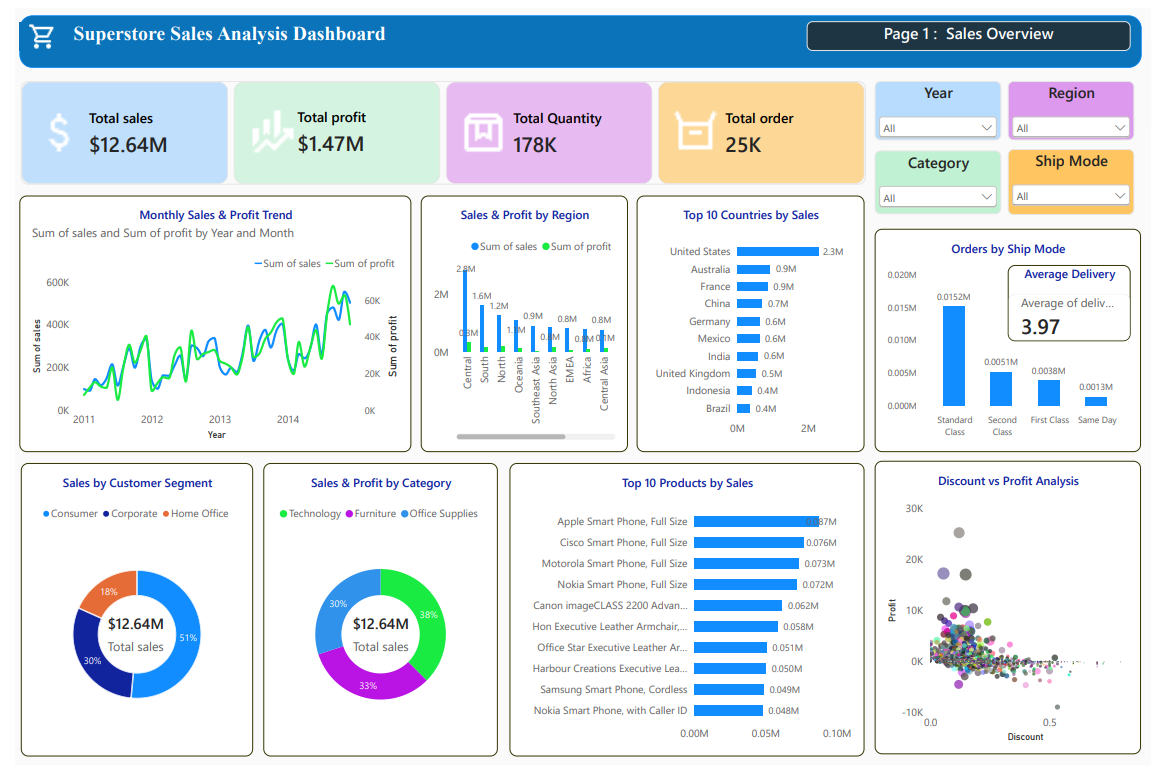

What the dashboard file says about the page in this screenshot:
{"tool":"powerbi","page":{"name":"Page 1","canvas":[1536,1024],"ordinal":0},"visuals":[{"type":"shape","box":[5.4,8.9,1517.9,71],"z":0},{"type":"textbox","box":[66.7,18.3,445,38.3],"z":1000},{"type":"image","box":[4.9,18.3,62.4,37.9],"z":2000},{"type":"cardVisual","fields":{"Data":["Superstore_Cleaned.Total sales","Superstore_Cleaned.Total profit","Superstore_Cleaned.Total Quantity","Superstore_Cleaned.Total order"]},"box":[6.9,97.8,1142.7,140.7],"z":3000},{"type":"lineChart","title":"Monthly Sales & Profit Trend","fields":{"Y":["Sum(Superstore_Cleaned.sales)"],"Y2":["Sum(Superstore_Cleaned.profit)"],"Category":["Superstore_Cleaned.order_date.Variation.Date Hierarchy.Year","Superstore_Cleaned.order_date.Variation.Date Hierarchy.Month"]},"box":[5,253.3,530,346.7],"z":4000},{"type":"lineClusteredColumnComboChart","title":"Sales & Profit by Region","fields":{"Y":["Sum(Superstore_Cleaned.sales)","Sum(Superstore_Cleaned.profit)"],"Category":["Superstore_Cleaned.region"]},"box":[548.3,253.3,280,346.7],"z":5000},{"type":"donutChart","title":"Sales & Profit by Category","fields":{"Category":["Superstore_Cleaned.category"],"Y":["Sum(Superstore_Cleaned.sales)"]},"box":[335,615,316.7,396.7],"z":6000},{"type":"barChart","title":"Top 10 Products by Sales","fields":{"Category":["Superstore_Cleaned.product_name"],"Y":["Sum(Superstore_Cleaned.sales)"]},"box":[668.3,615,480,396.7],"z":7000},{"type":"donutChart","title":"Sales by Customer Segment","fields":{"Y":["Sum(Superstore_Cleaned.sales)"],"Category":["Superstore_Cleaned.segment"]},"box":[6.7,615,314.8,396.5],"z":8000},{"type":"scatterChart","title":"Discount vs Profit Analysis","fields":{"X":["Avg(Superstore_Cleaned.discount)"],"Y":["Sum(Superstore_Cleaned.profit)"],"Size":["Sum(Superstore_Cleaned.sales)"],"Category":["Superstore_Cleaned.product_name"]},"box":[1161.7,612.2,360,396.5],"z":9000},{"type":"clusteredBarChart","title":"Top 10 Countries by Sales","fields":{"Category":["Superstore_Cleaned.country"],"Y":["Sum(Superstore_Cleaned.sales)"]},"box":[840,253.3,308.3,346.7],"z":10000},{"type":"clusteredColumnChart","title":"Orders by Ship Mode","fields":{"Category":["Superstore_Cleaned.ship_mode"],"Y":["Superstore_Cleaned.Total order"]},"box":[1161.7,298.3,360,301.7],"z":11000},{"type":"cardVisual","title":"Average Delivery","fields":{"Data":["Avg(Superstore_Cleaned.delivery_days)"]},"box":[1341.8,346.6,166.4,102.9],"z":12000},{"type":"slicer","title":"Year","fields":{"Values":["Superstore_Cleaned.year"]},"box":[1161.6,97.8,171.6,80.6],"z":13000},{"type":"slicer","title":"Category","fields":{"Values":["Superstore_Cleaned.category"]},"box":[1161.7,191.7,171,86.7],"z":14000},{"type":"slicer","title":"Ship Mode","fields":{"Values":["Superstore_Cleaned.ship_mode"]},"box":[1341.7,190,171,88.7],"z":15000},{"type":"slicer","title":"Region","fields":{"Values":["Superstore_Cleaned.region"]},"box":[1341.8,97.8,171.6,80.6],"z":16000},{"type":"card","fields":{"Values":["Superstore_Cleaned.Total sales"]},"box":[101.7,758.3,121.7,175],"z":17000},{"type":"card","fields":{"Values":["Superstore_Cleaned.Total sales"]},"box":[433.3,758.3,121.7,175],"z":18000},{"type":"textbox","box":[1070,16.7,438.3,40],"z":19000}]}

Visuals, with their boxes in screenshot pixels (x1, y1, x2, y2), scaled from the page's 1536x1024 canvas onto the 1160x765 screenshot:
shape: crop(4, 7, 1150, 60)
textbox: crop(50, 14, 386, 42)
image: crop(4, 14, 51, 42)
cardVisual - Superstore_Cleaned.Total sales x Superstore_Cleaned.Total profit: crop(5, 73, 868, 178)
"Monthly Sales & Profit Trend" lineChart: crop(4, 189, 404, 448)
"Sales & Profit by Region" lineClusteredColumnComboChart: crop(414, 189, 626, 448)
"Sales & Profit by Category" donutChart: crop(253, 459, 492, 756)
"Top 10 Products by Sales" barChart: crop(505, 459, 867, 756)
"Sales by Customer Segment" donutChart: crop(5, 459, 243, 756)
"Discount vs Profit Analysis" scatterChart: crop(877, 457, 1149, 754)
"Top 10 Countries by Sales" clusteredBarChart: crop(634, 189, 867, 448)
"Orders by Ship Mode" clusteredColumnChart: crop(877, 223, 1149, 448)
"Average Delivery" cardVisual: crop(1013, 259, 1139, 336)
"Year" slicer: crop(877, 73, 1007, 133)
"Category" slicer: crop(877, 143, 1006, 208)
"Ship Mode" slicer: crop(1013, 142, 1142, 208)
"Region" slicer: crop(1013, 73, 1143, 133)
card - Superstore_Cleaned.Total sales: crop(77, 567, 169, 697)
card - Superstore_Cleaned.Total sales: crop(327, 567, 419, 697)
textbox: crop(808, 12, 1139, 42)
